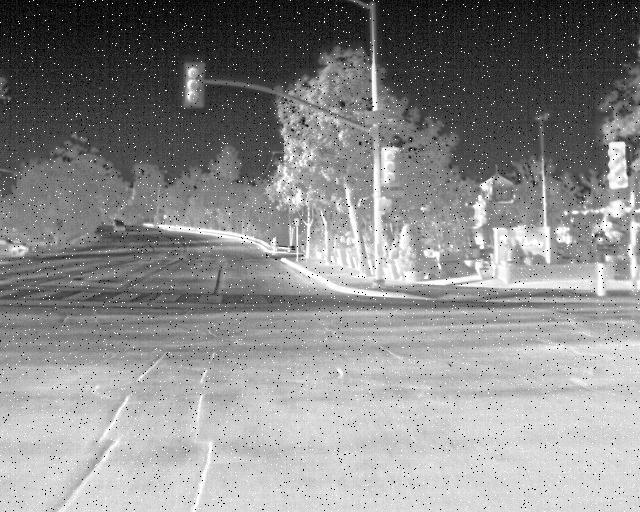trafficlight: (169, 55, 226, 119), (363, 138, 417, 194), (590, 135, 634, 199)
